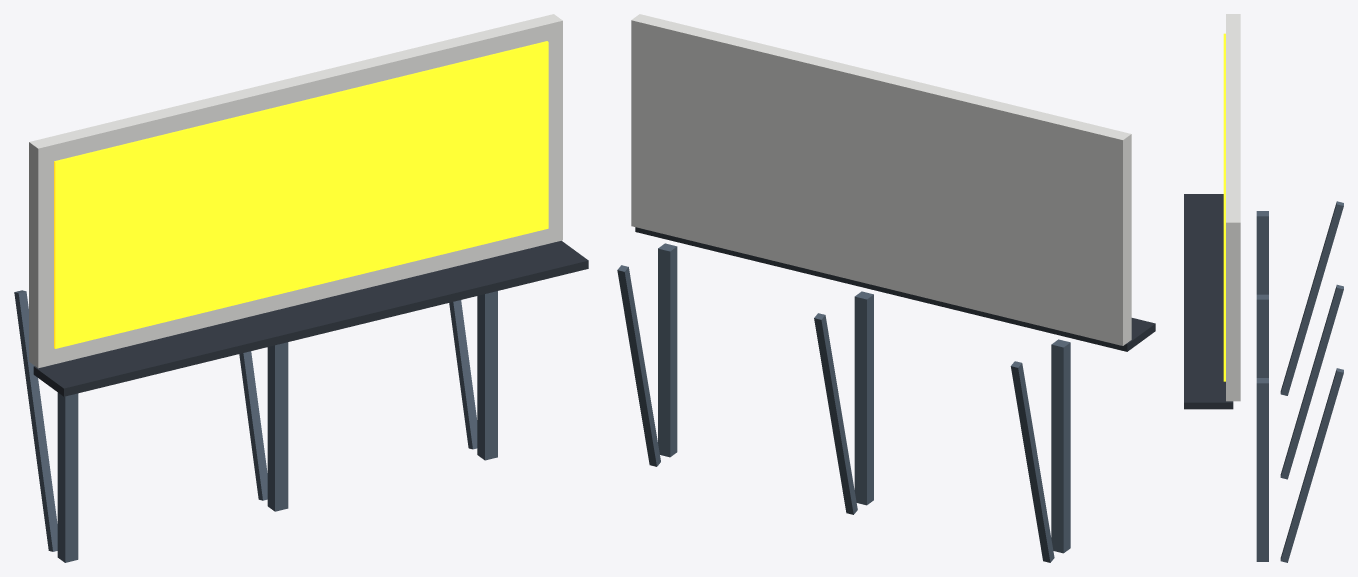
Rendered from city_billboard_frame.glb.
3 views of the same model, side by side, from view 1: azimuth 30°, elevation 25°; view 2: azimuth 150°, elevation 25°; view 3: azimuth 270°, elevation 25° (orthographic). The views are drawn at different scales.
Visible parts, largest first — view 1: city_billboard_frame_glowAmber, city_billboard_frame_white, city_billboard_frame_steelDark, city_billboard_frame_steel; view 2: city_billboard_frame_white, city_billboard_frame_steel, city_billboard_frame_steelDark; view 3: city_billboard_frame_steel, city_billboard_frame_steelDark, city_billboard_frame_white, city_billboard_frame_glowAmber.
Boxes of the visible parts, <box> form: city_billboard_frame_glowAmber: <box>54,41,548,348</box>; city_billboard_frame_white: <box>29,14,562,368</box>; city_billboard_frame_steelDark: <box>33,240,588,396</box>; city_billboard_frame_steel: <box>14,290,497,562</box>; city_billboard_frame_white: <box>631,14,1131,345</box>; city_billboard_frame_steel: <box>617,243,1070,562</box>; city_billboard_frame_steelDark: <box>635,227,1155,351</box>; city_billboard_frame_steel: <box>1256,201,1343,562</box>; city_billboard_frame_steelDark: <box>1184,194,1233,409</box>; city_billboard_frame_white: <box>1226,14,1240,401</box>; city_billboard_frame_glowAmber: <box>1223,33,1225,381</box>.
Bounding box in the file's own units: 10 × 8.04 × 3.24.
